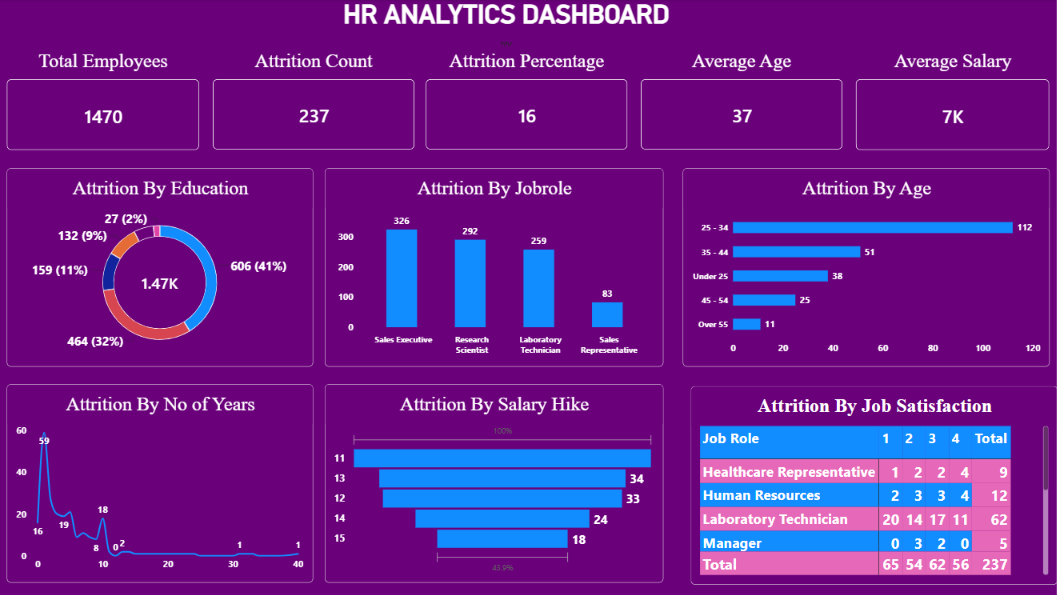

Layout of this report page (visuals, bound fields, positions):
{"tool":"powerbi","page":{"name":"Page 1","canvas":[1920,1080],"ordinal":0},"visuals":[{"type":"cardVisual","title":"Total Employees","fields":{"Data":["Sum(Data.Employee Count)"]},"box":[18.7,91.3,348.8,182.7],"z":0},{"type":"cardVisual","title":"Attrition Count","fields":{"Data":["Sum(Data.CF_attrition count)"]},"box":[390.3,91.3,365,182],"z":1},{"type":"cardVisual","title":"Attrition Percentage","fields":{"Data":["Data.Attrition_Percentage"]},"box":[776.5,91.3,365,182],"z":2},{"type":"cardVisual","title":"Average Age","fields":{"Data":["Avg(Data.Age)"]},"box":[1164.7,91.3,365,182],"z":3},{"type":"cardVisual","title":"Average Salary","fields":{"Data":["Avg(Data.Monthly Income)"]},"box":[1555,91.3,350.9,182.7],"z":4},{"type":"donutChart","title":"Attrition By Education","fields":{"Category":["Data.Education Field"],"Y":["CountNonNull(Data.Attrition)"]},"box":[18.7,305.2,554.3,359.2],"z":5},{"type":"columnChart","title":"Attrition By Jobrole","fields":{"Y":["CountNonNull(Data.Attrition)"],"Category":["Data.Job Role"]},"box":[593.8,305.2,612.5,359.2],"z":6},{"type":"barChart","title":"Attrition By Age","fields":{"Category":["Data.CF_age band"],"Y":["Sum(Data.CF_attrition count)"]},"box":[1241.5,305.2,664.4,359.2],"z":7},{"type":"lineChart","title":"Attrition By No of  Years","fields":{"Y":["Sum(Data.CF_attrition count)"],"Category":["Data.Years At Company"]},"box":[18.7,697.6,554.3,359.2],"z":8},{"type":"funnel","title":"Attrition By Salary Hike","fields":{"Y":["Sum(Data.CF_attrition count)"],"Category":["Data.Percent Salary Hike"]},"box":[593.8,697.6,612.5,359.2],"z":9},{"type":"pivotTable","title":"Attrition By Job Satisfaction","fields":{"Rows":["Data.Job Role"],"Columns":["Data.Job Satisfaction"],"Values":["Sum(Data.CF_attrition count)"]},"box":[1256.1,699.7,664,359],"z":10},{"type":"textbox","title":"HR  ANALYTICS DASHBOARD","box":[315.6,0,1214.5,91.3],"z":11},{"type":"textbox","box":[100,100,300,300],"z":12}]}

Visuals, with their boxes in screenshot pixels (x1, y1, x2, y2), scaled from the page's 1920x1080 canvas onto the 1057x595 screenshot:
"Total Employees" cardVisual: x1=10, y1=50, x2=202, y2=151
"Attrition Count" cardVisual: x1=215, y1=50, x2=416, y2=151
"Attrition Percentage" cardVisual: x1=427, y1=50, x2=628, y2=151
"Average Age" cardVisual: x1=641, y1=50, x2=842, y2=151
"Average Salary" cardVisual: x1=856, y1=50, x2=1049, y2=151
"Attrition By Education" donutChart: x1=10, y1=168, x2=315, y2=366
"Attrition By Jobrole" columnChart: x1=327, y1=168, x2=664, y2=366
"Attrition By Age" barChart: x1=683, y1=168, x2=1049, y2=366
"Attrition By No of  Years" lineChart: x1=10, y1=384, x2=315, y2=582
"Attrition By Salary Hike" funnel: x1=327, y1=384, x2=664, y2=582
"Attrition By Job Satisfaction" pivotTable: x1=692, y1=385, x2=1056, y2=583
"HR  ANALYTICS DASHBOARD" textbox: x1=174, y1=0, x2=842, y2=50
textbox: x1=55, y1=55, x2=220, y2=220
